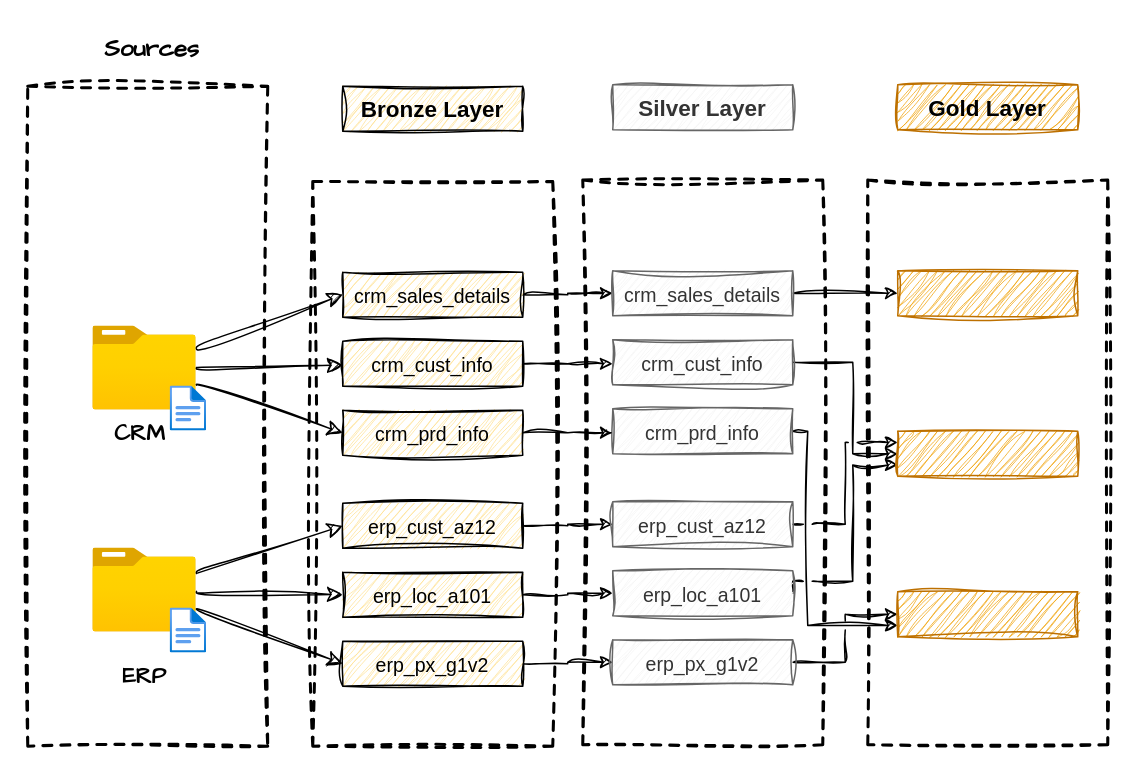
This 1134x773 diagram has some shape labels left out. Here are the shapes that lost their labels. From the top down, the centre of each, then its label:
the point at 987,292: fact_sales
the point at 987,453: dim_customers
the point at 987,613: dim_product
